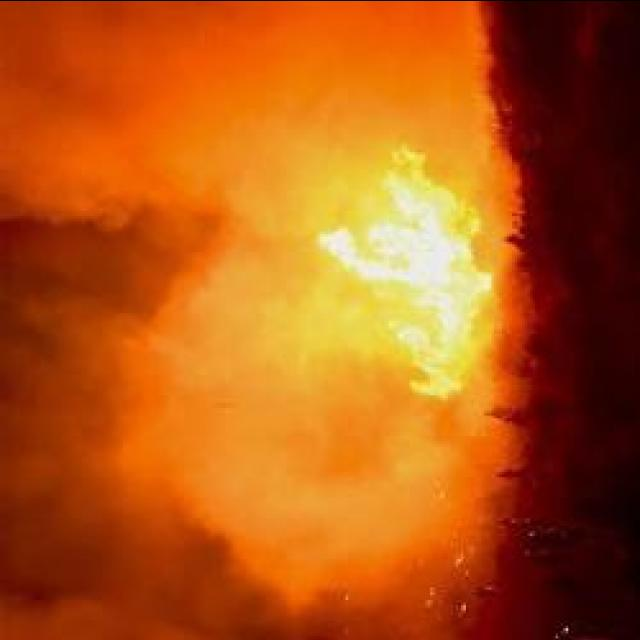fire: (286, 180, 501, 384)
smoke: (206, 390, 470, 597), (14, 216, 279, 408), (0, 366, 220, 535), (0, 119, 282, 236)
